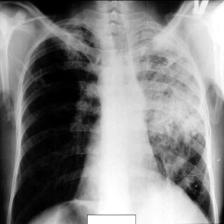tuberculosis: (6, 16, 217, 224)
